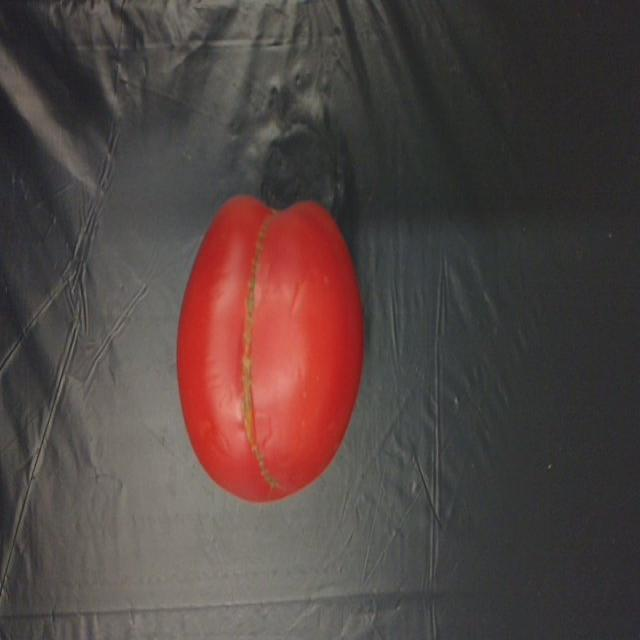kirmizi: (164, 198, 398, 506)
